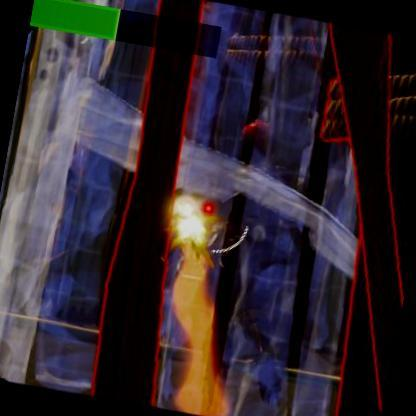person: (194, 112, 312, 337)
